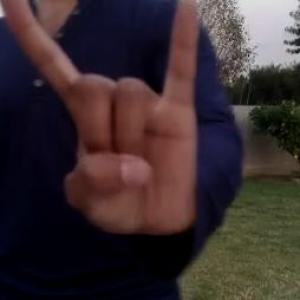takeoff-hand: (0, 0, 209, 251)
